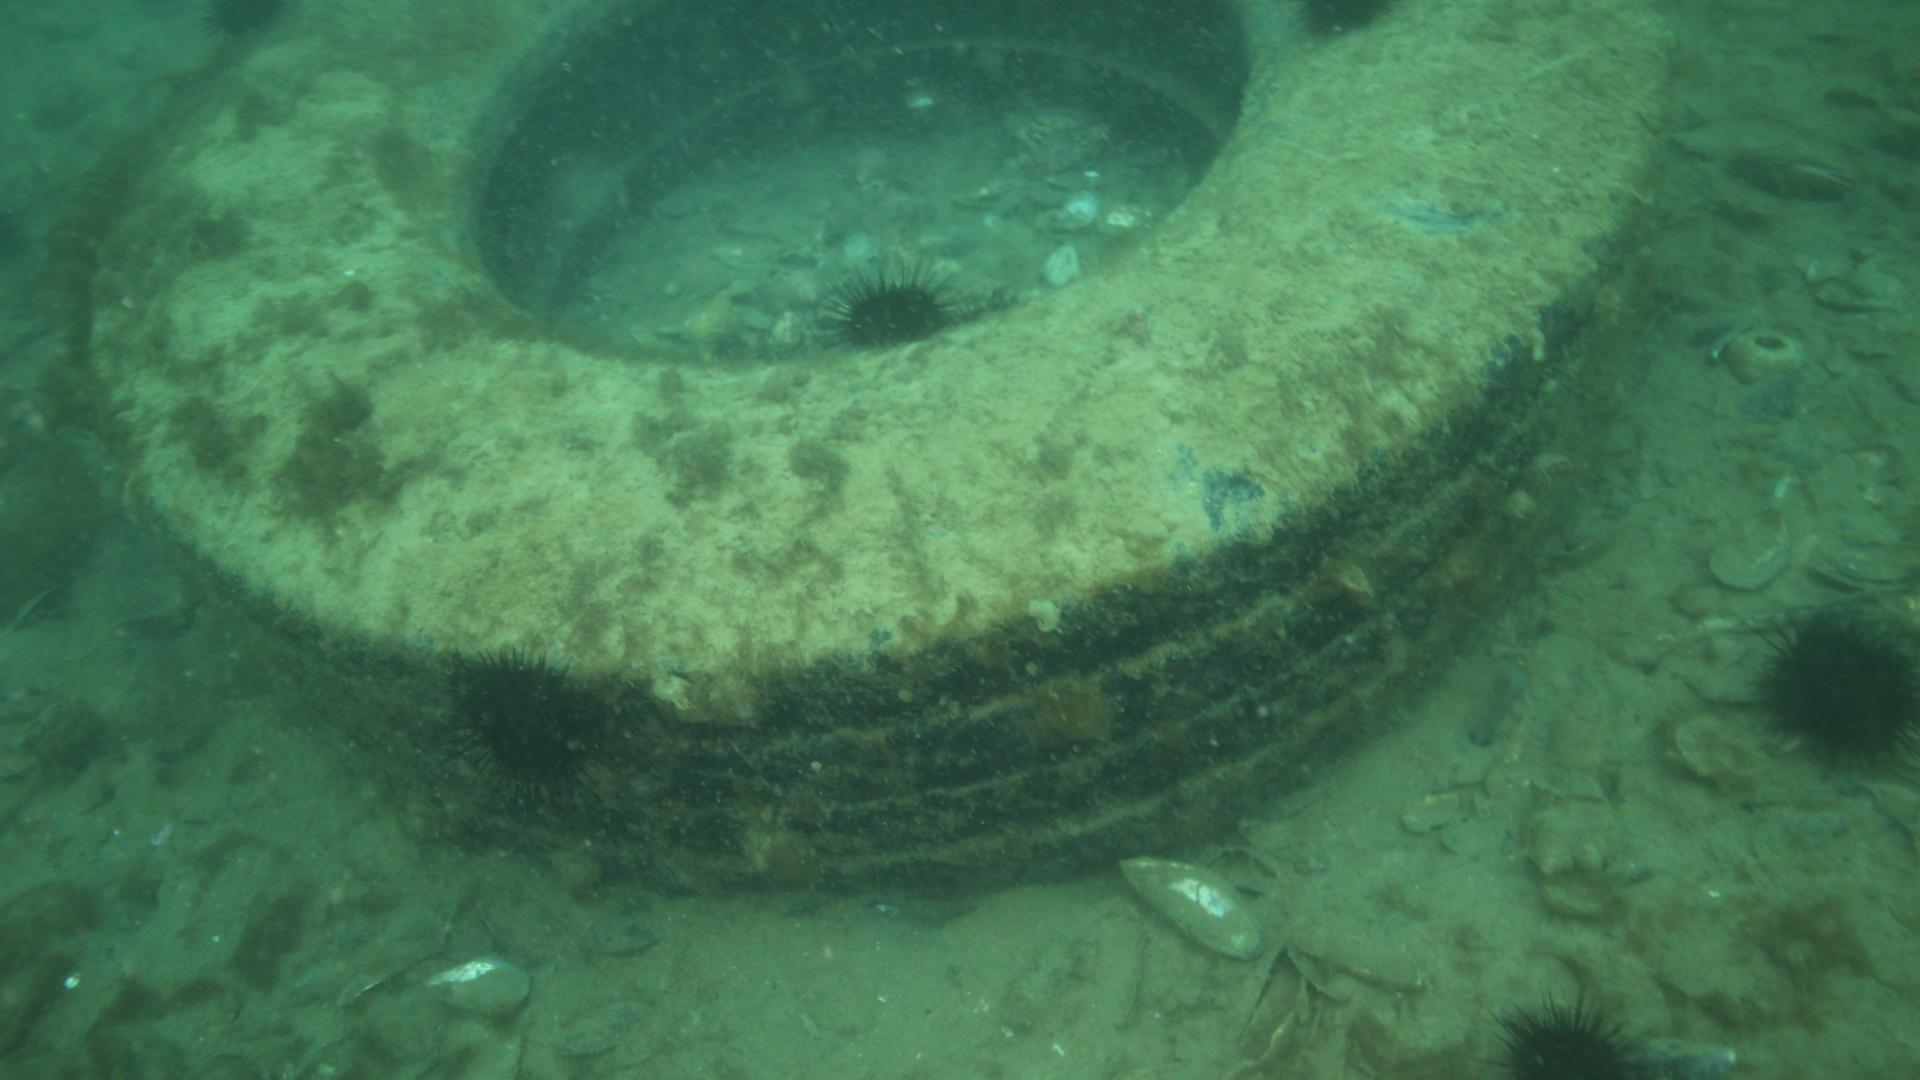tire: (86, 0, 1679, 897)
